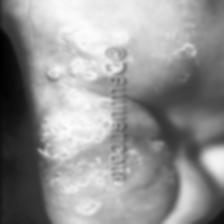Toxin: (34, 117, 84, 177), (41, 38, 98, 86)
